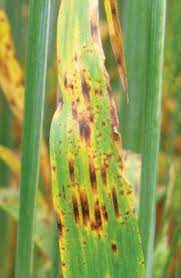Bercak Coklat: (108, 183, 126, 229), (77, 67, 95, 107), (84, 152, 98, 194), (76, 115, 93, 147), (79, 186, 92, 227), (68, 194, 81, 227), (65, 157, 79, 185), (64, 104, 83, 124), (92, 197, 102, 231), (97, 161, 110, 187), (108, 239, 121, 255)
